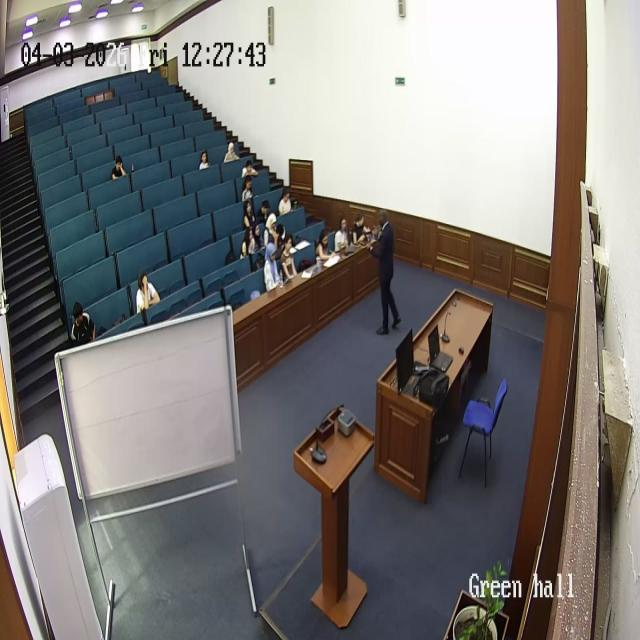person: (370, 208, 400, 333), (135, 270, 161, 319), (68, 300, 95, 346), (263, 239, 283, 292), (279, 232, 299, 280), (315, 228, 333, 268), (350, 212, 368, 248), (334, 215, 351, 253), (240, 225, 258, 259), (242, 200, 258, 230), (240, 174, 256, 204), (278, 187, 294, 216), (264, 211, 278, 244), (111, 156, 128, 180), (240, 158, 258, 180), (224, 140, 238, 162), (198, 148, 210, 170), (260, 197, 272, 216)
